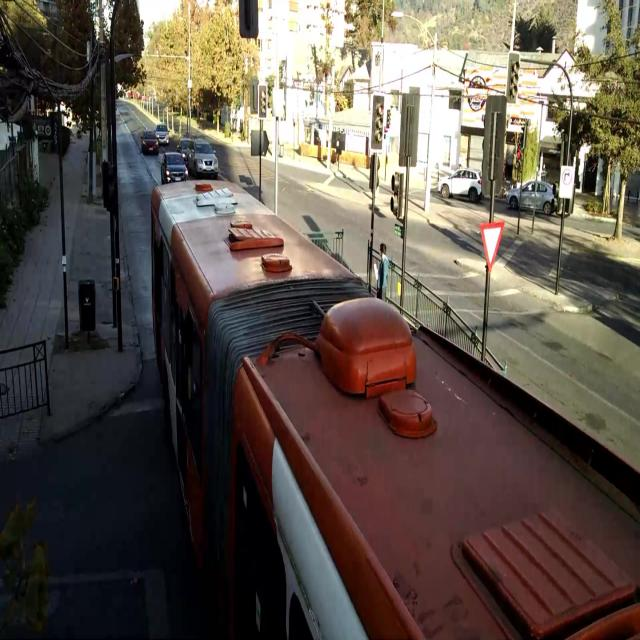AB: (143, 163, 639, 640)
